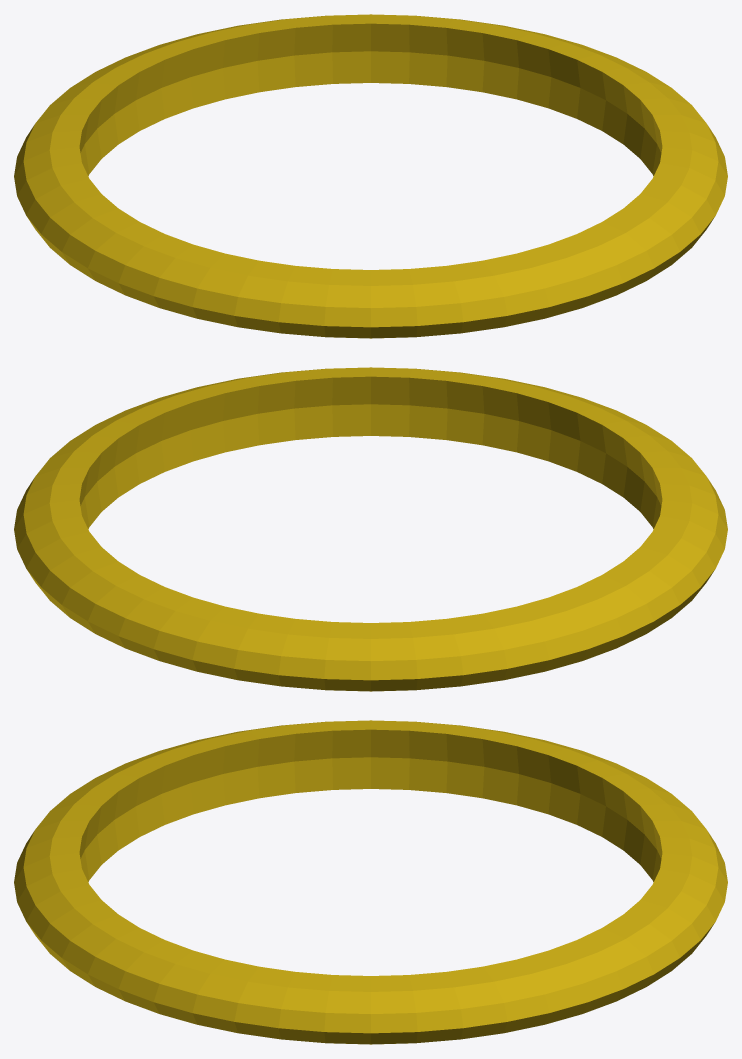
Rendered from selection.fbx.
3 renders of one model, top to bottom at view 1: azimuth 30°, elevation 25°; view 2: azimuth 150°, elevation 25°; view 3: azimuth 270°, elevation 25°, orthographic.
Parts seen in each view (by area): view 1: Torus; view 2: Torus; view 3: Torus.
Part boxes in pixels (x1,y1,x2,y2): Torus: (14, 14, 727, 338); Torus: (14, 367, 727, 691); Torus: (14, 720, 727, 1044).
Size of the model in its own units: 806 by 73.85 by 806.
